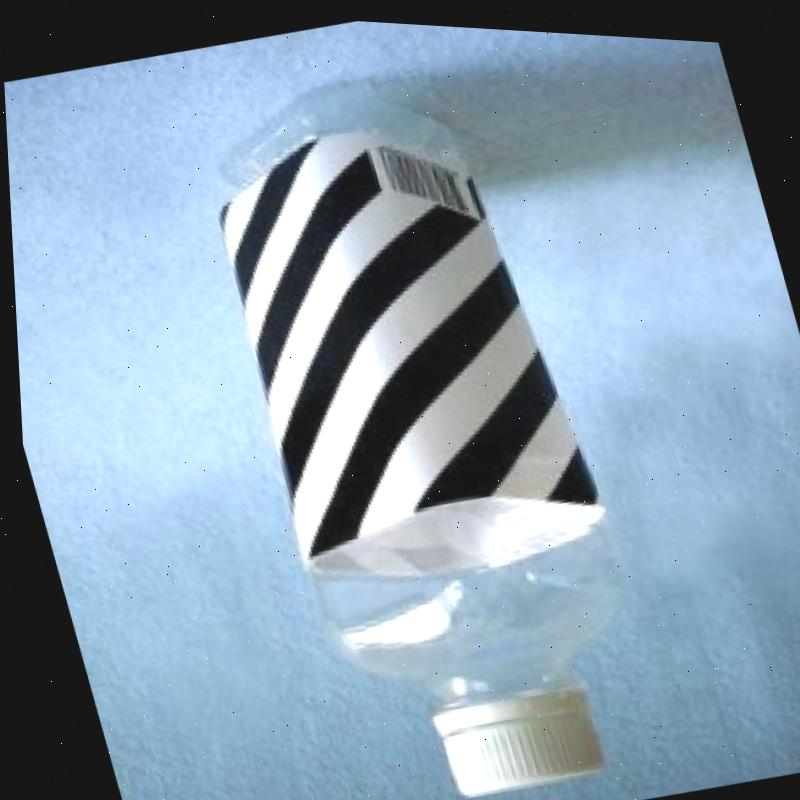botella: (176, 49, 666, 800)
